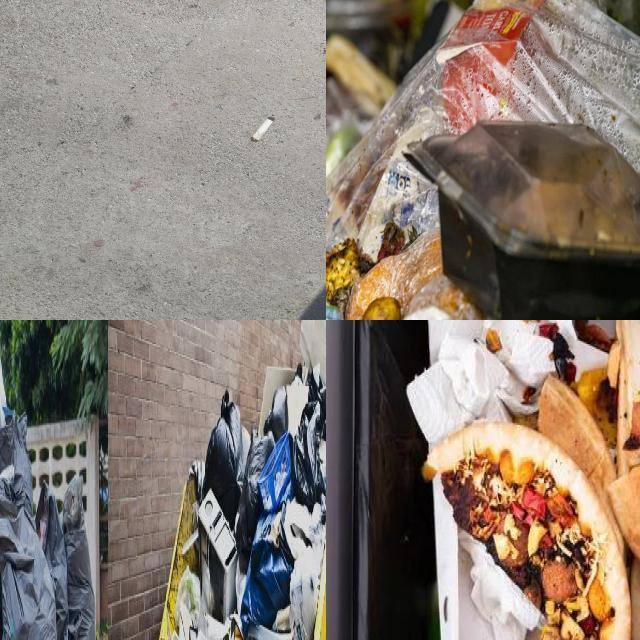Cig_bud: (251, 116, 275, 142)
Disposable: (405, 120, 640, 320)
E_waste: (199, 487, 236, 621)
Garbage: (326, 0, 640, 320), (394, 320, 640, 640), (167, 320, 326, 640), (0, 416, 95, 640)
Plastic: (259, 434, 292, 513)
Plastic_Bag: (326, 0, 640, 258), (0, 509, 56, 640), (241, 513, 292, 640), (35, 482, 70, 640), (204, 389, 243, 529), (63, 473, 95, 640), (235, 434, 274, 571), (0, 411, 34, 524), (292, 403, 324, 513), (289, 544, 323, 640), (264, 385, 288, 442)
